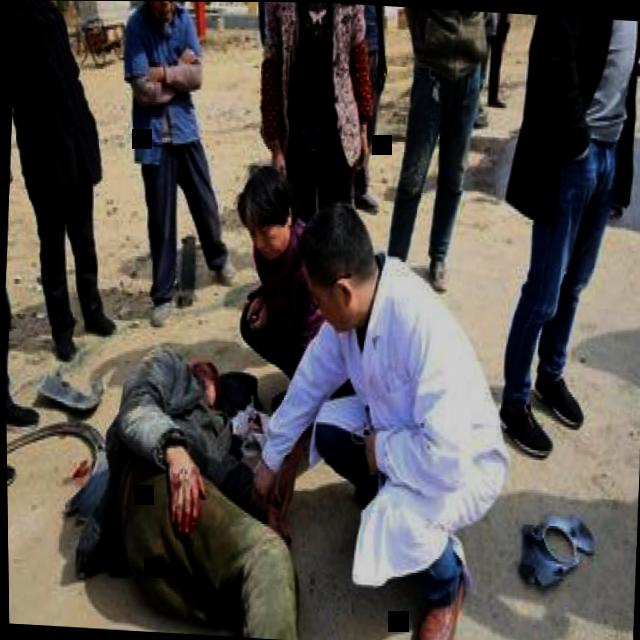Fall-Detected: (39, 318, 335, 640)
